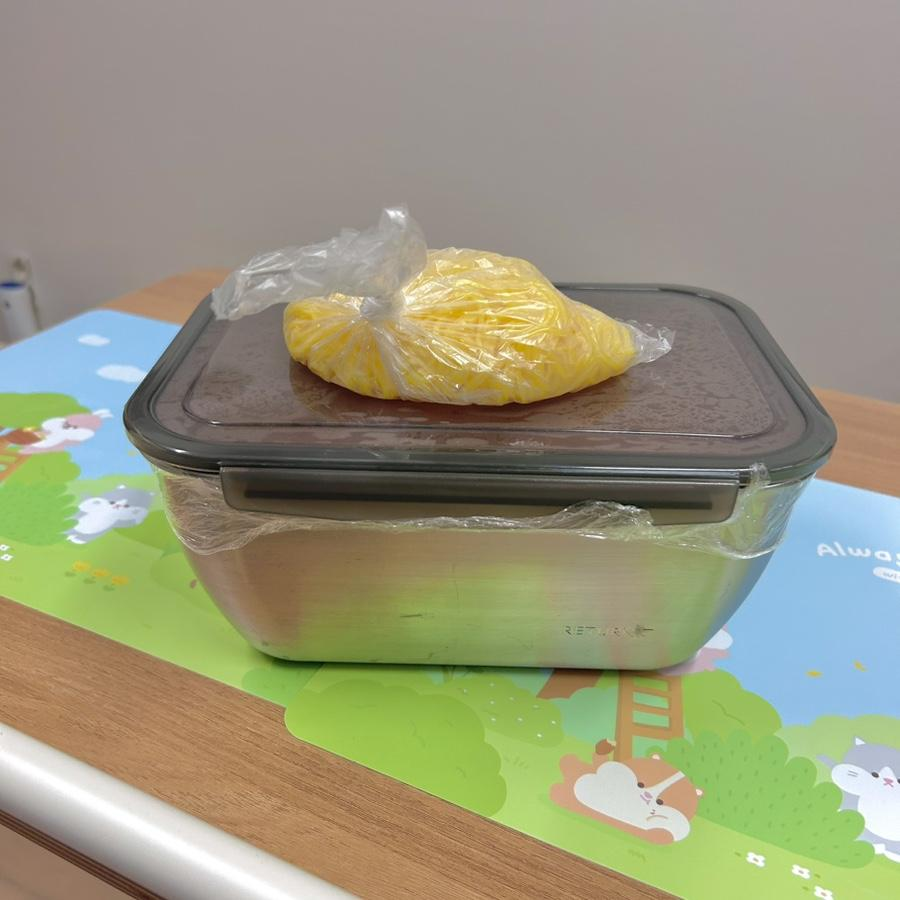Lunch Box: (124, 284, 835, 668)
